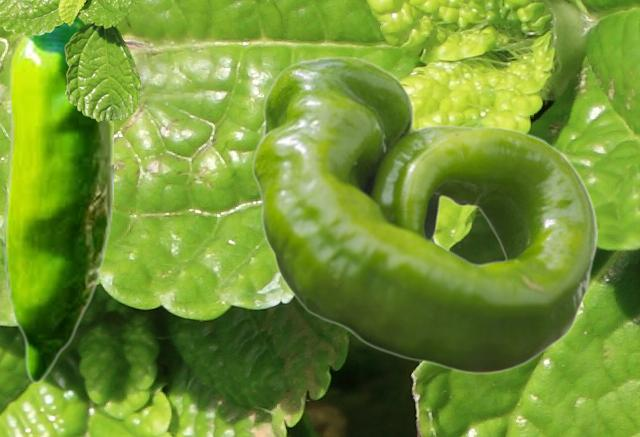green_chili: (252, 56, 596, 373), (3, 17, 112, 382)
